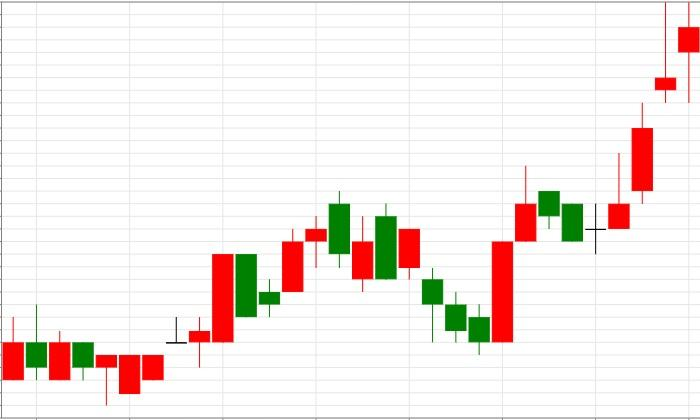bearish_engulfing_fall: (119, 191, 350, 395)
